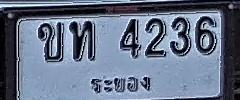2: (145, 18, 166, 55)
3: (170, 16, 190, 55)
4: (120, 18, 140, 57)
6: (196, 15, 215, 53)
A02: (38, 21, 64, 62)
A23: (70, 20, 96, 60)
RYG: (88, 72, 154, 95)
